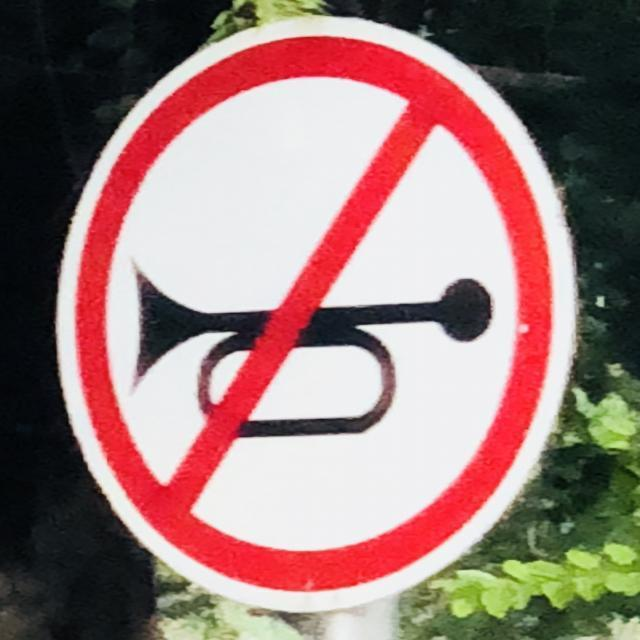horn prohibited: (62, 18, 564, 599)
